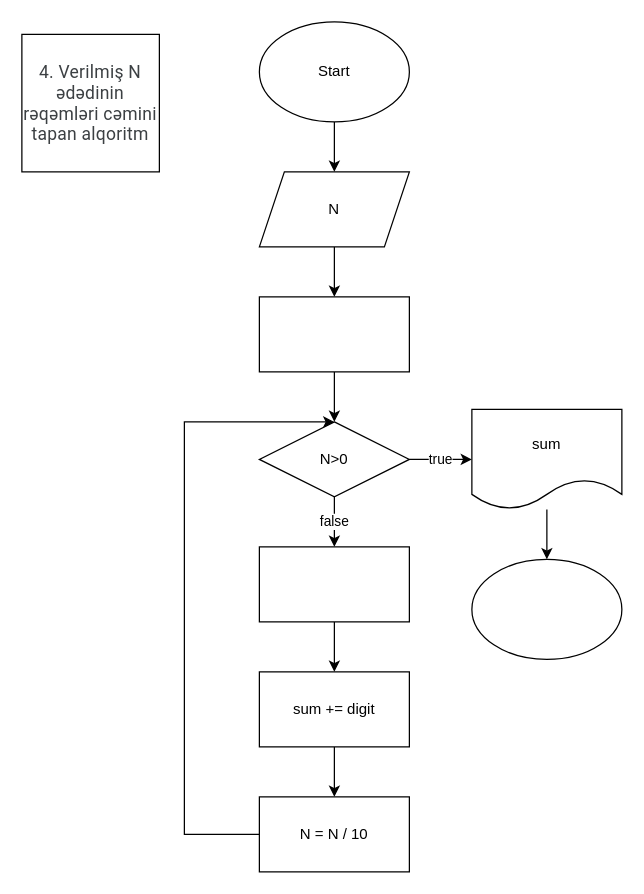
The diagram is 644 pixels wide and 894 high, and some of its shapes have lost their labels. The centre of each missing label's shape, as x and y in pixels:
"digit = N % 10" goes at pixel 333 584.
"End" goes at pixel 546 608.
"sum = 0" goes at pixel 333 334.
